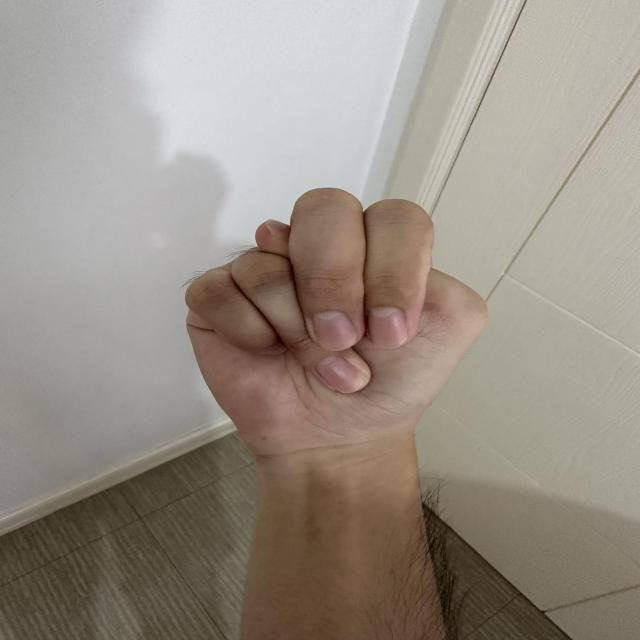N: (182, 185, 492, 460)
